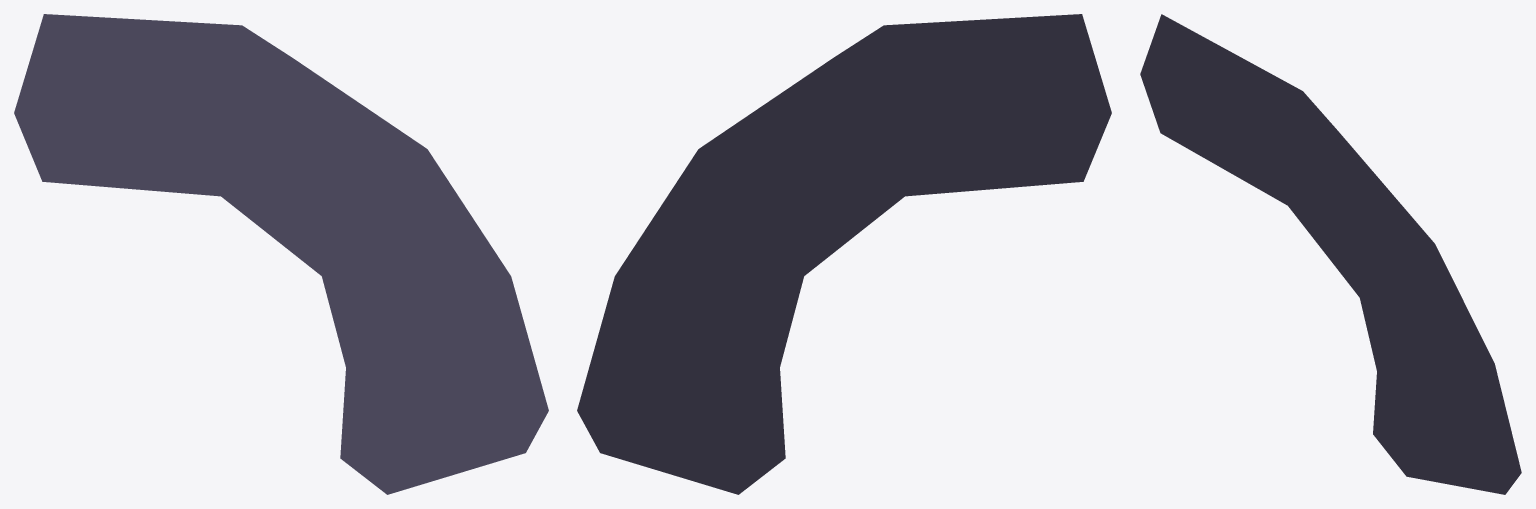
The model's file is yetiLeftArmSilhouette_0.glb.
The picture shows the model from 3 angles, left to right: view 1: azimuth 30°, elevation 25°; view 2: azimuth 150°, elevation 25°; view 3: azimuth 330°, elevation 25°; orthographic projection. The views are drawn at different scales.
Visible parts, largest first — view 1: yetiLeftArmSilhouette; view 2: yetiLeftArmSilhouette; view 3: yetiLeftArmSilhouette.
Part boxes in pixels (x1,y1,x2,y2): yetiLeftArmSilhouette: (14, 14, 548, 494); yetiLeftArmSilhouette: (577, 14, 1111, 494); yetiLeftArmSilhouette: (1140, 14, 1521, 494).
Size of the model in its own units: 0.52 by 0.5246 by 0.
